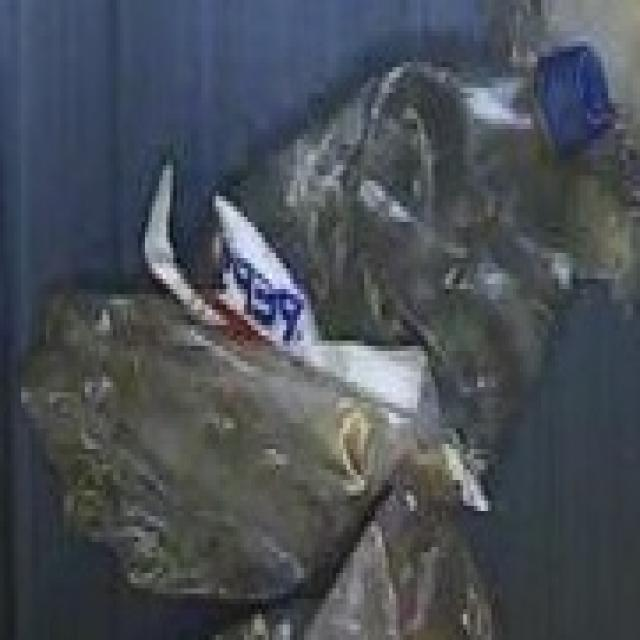plasticbottle: (33, 33, 640, 583)
